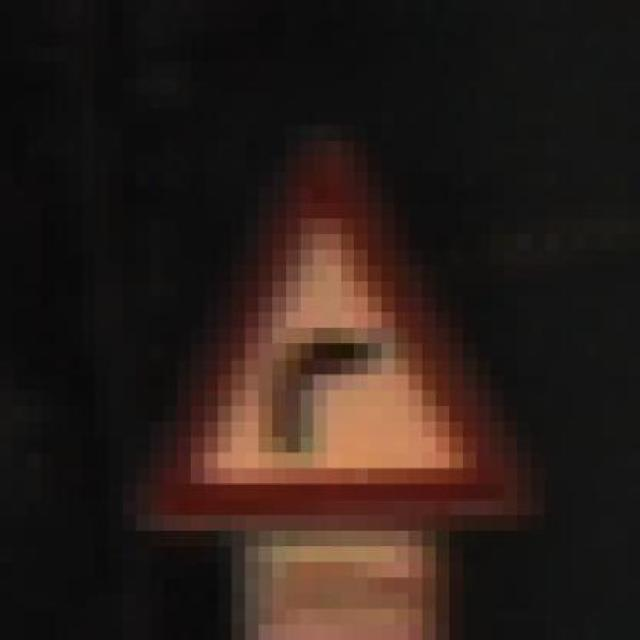Dangerous Rright Curve Ahead: (122, 124, 546, 530)
